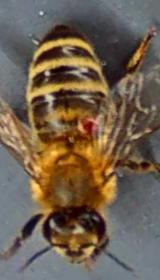varroa_mite: (66, 102, 108, 144)
